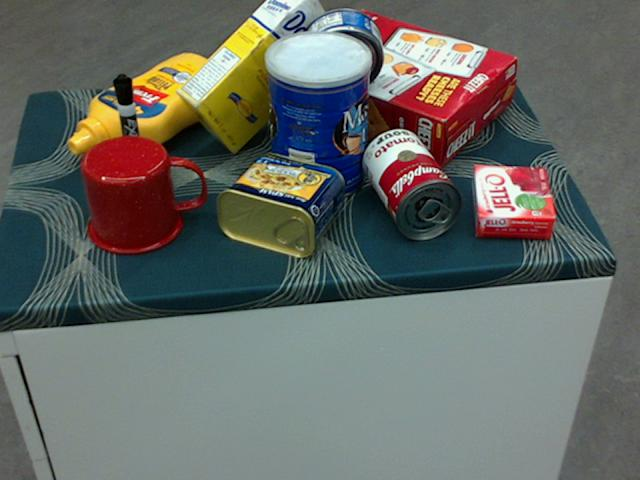cracker_box: (281, 8, 514, 168)
gelatin_box: (470, 165, 555, 236)
large_marker: (111, 74, 147, 183)
master_chef_can: (264, 31, 370, 203)
mug: (82, 134, 206, 254)
mustard_bottle: (67, 53, 231, 155)
potted_meat_can: (215, 153, 343, 257)
sugar_box: (174, 0, 342, 155)
tomato_soup_can: (363, 127, 461, 239)
tuna_fish_can: (301, 7, 384, 91)
